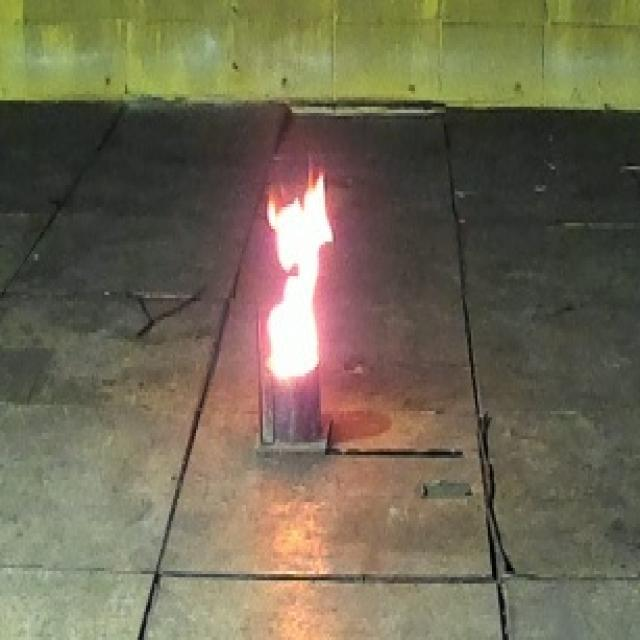Fire: (264, 154, 335, 378)
